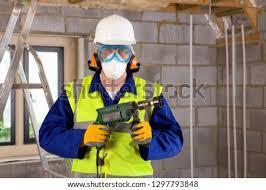Hard_hat: (93, 12, 139, 47)
Humans: (27, 47, 178, 179)
Vest: (64, 77, 165, 179)
Visor: (99, 41, 136, 64)
